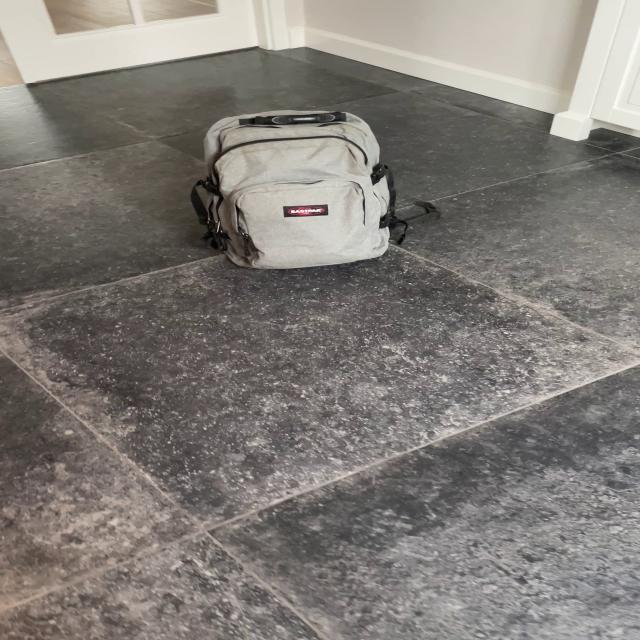backpack: (180, 101, 406, 275)
